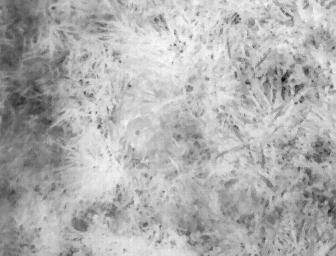landmine: (122, 115, 156, 148)
